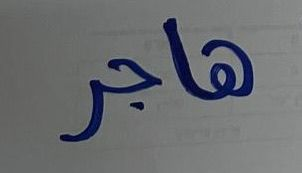alef: (163, 14, 195, 107)
heh: (197, 31, 259, 106)
jeem: (106, 46, 161, 113)
reh: (50, 71, 103, 144)
